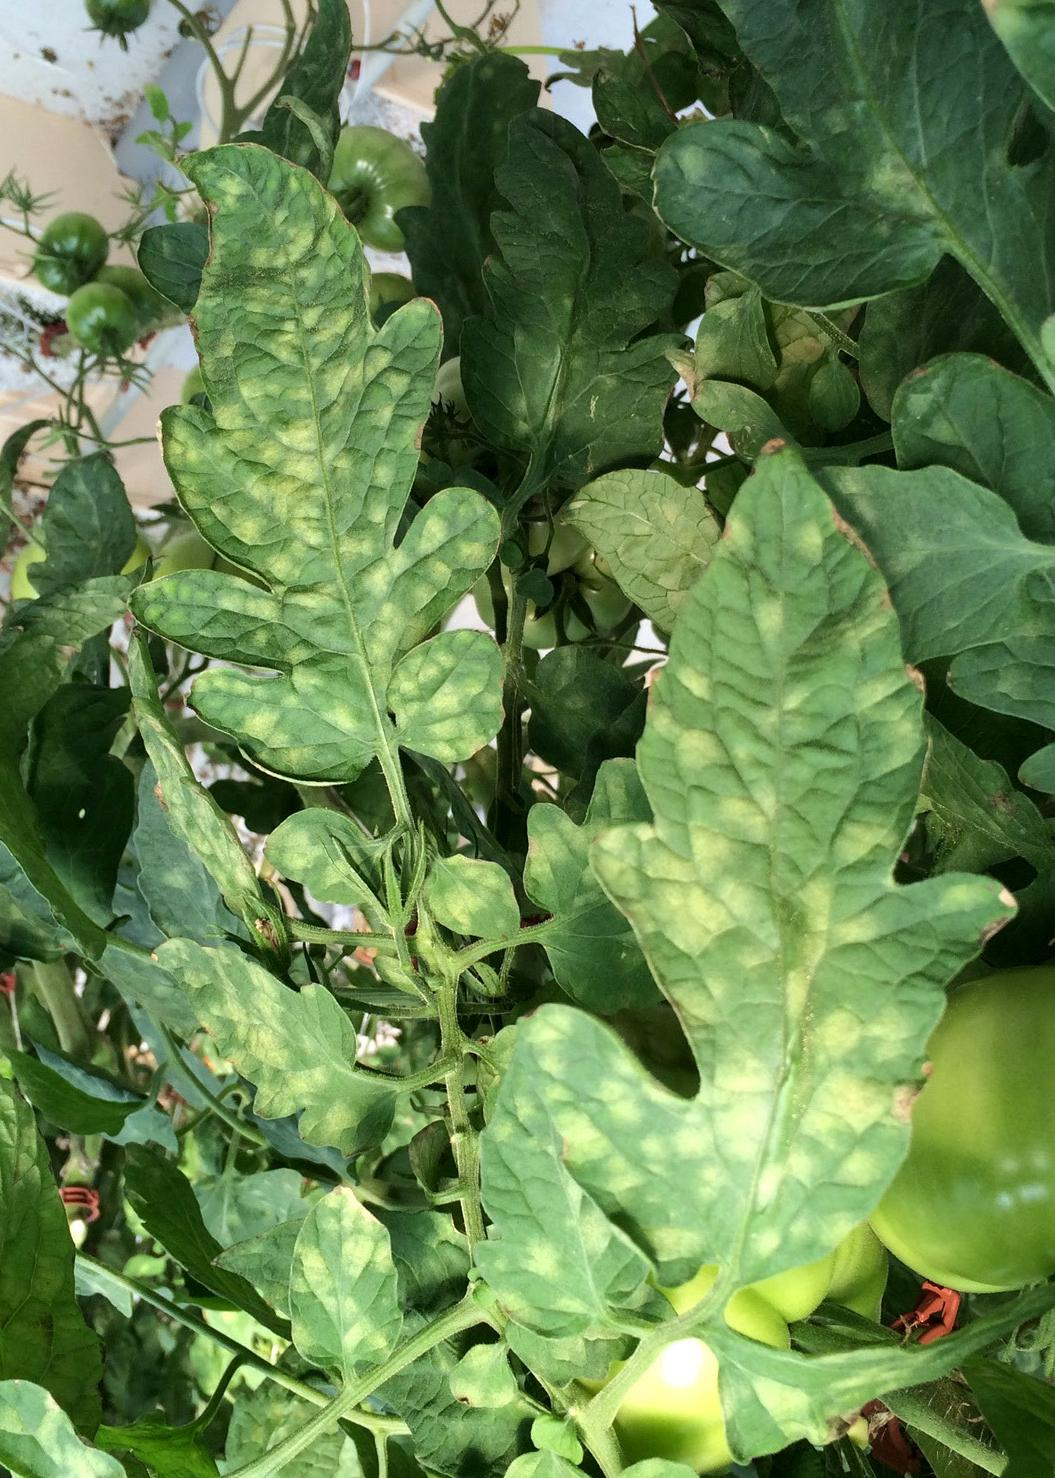Tomato mold leaf: (548, 447, 945, 1280), (132, 134, 502, 788), (147, 927, 436, 1154), (473, 1127, 666, 1356), (718, 1324, 965, 1473), (567, 462, 734, 669), (284, 1168, 399, 1372), (418, 841, 529, 940), (259, 807, 365, 908)
